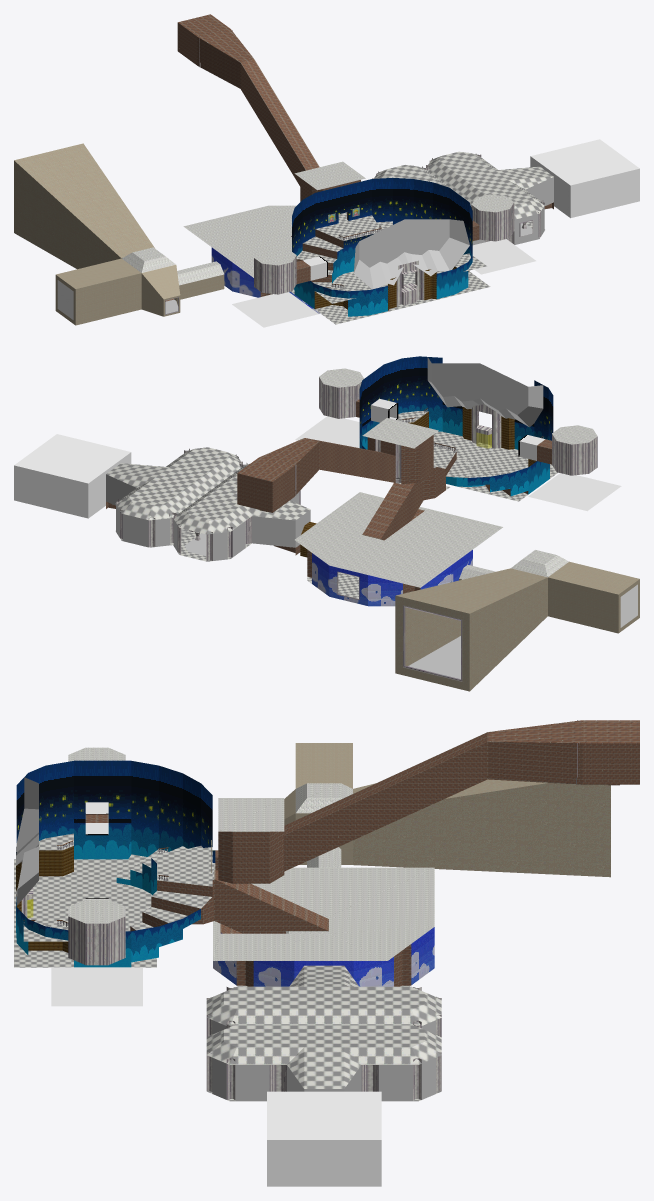
The model's file is castle_2f_all.bmd.dae.
3 views of the same model, one above another, from view 1: azimuth 30°, elevation 25°; view 2: azimuth 150°, elevation 25°; view 3: azimuth 270°, elevation 25° (orthographic). The views are drawn at different scales.
Visible parts, largest first — view 1: r4, r2, r5, r3, r6, r1; view 2: r4, r2, r1, r3, r5, r6; view 3: r4, r3, r5, r1, r2, r6.
Part boxes in pixels (x1,y1,x2,y2): r4: (232, 177, 535, 327); r2: (14, 143, 224, 325); r5: (177, 14, 365, 222); r3: (372, 151, 553, 245); r6: (530, 139, 639, 218); r1: (183, 205, 301, 300); r4: (295, 356, 621, 511); r2: (395, 550, 639, 691); r1: (295, 466, 502, 606); r3: (106, 447, 310, 561); r5: (237, 418, 438, 512); r6: (14, 434, 131, 518); r4: (14, 747, 215, 1006); r3: (206, 965, 441, 1101); r5: (215, 720, 639, 1150); r1: (192, 867, 434, 986); r2: (284, 743, 610, 877); r6: (267, 1091, 381, 1186).
Size of the model in its own units: 15.96 by 10.92 by 5.22.
